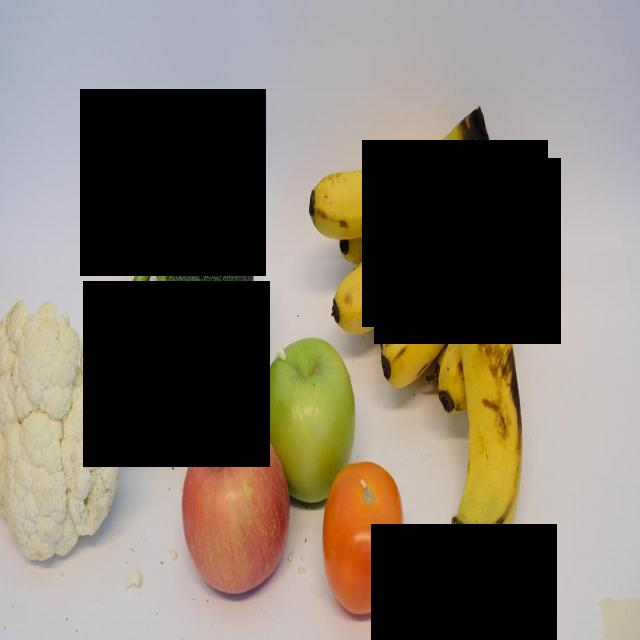apple: (179, 417, 292, 601), (260, 335, 358, 510)
banana: (328, 139, 476, 337), (448, 203, 524, 579), (382, 156, 484, 392), (438, 154, 526, 418), (306, 119, 471, 243)
broccoli: (108, 170, 255, 429)
cauliflower: (0, 291, 134, 564)
tomato: (323, 458, 407, 620)
